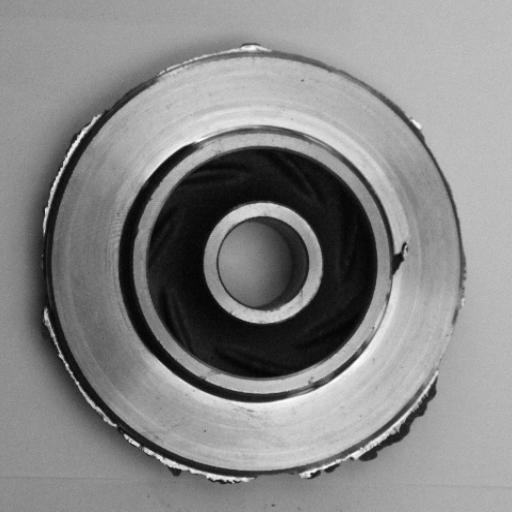casting_with_burr: (32, 39, 467, 490)
crack: (384, 230, 421, 282)
scratch: (183, 117, 271, 153)
